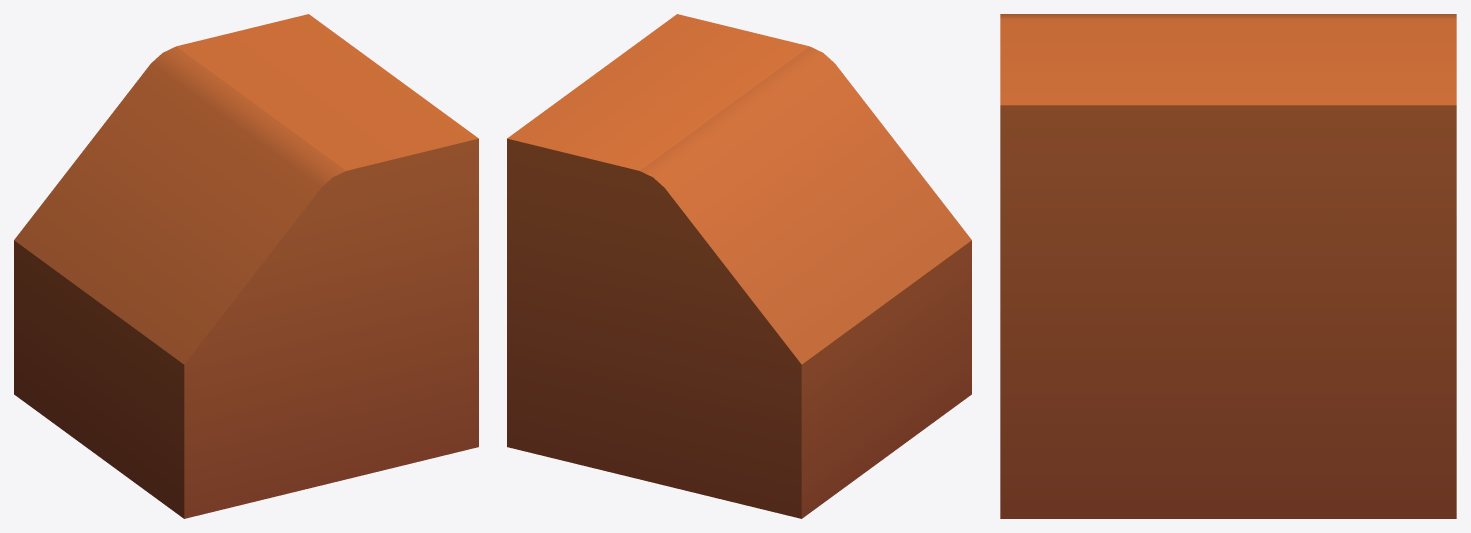
The model's file is terrain_slope.glb.
The picture shows the model from 3 angles, left to right: view 1: azimuth 30°, elevation 25°; view 2: azimuth 150°, elevation 25°; view 3: azimuth 270°, elevation 25°; orthographic projection. The views are drawn at different scales.
Visible parts, largest first — view 1: terrain_slope; view 2: terrain_slope; view 3: terrain_slope.
Part boxes in pixels (<box>): terrain_slope: <box>14,14,478,518</box>; terrain_slope: <box>507,14,971,518</box>; terrain_slope: <box>1000,14,1456,518</box>.
Size of the model in its own units: 6 by 6 by 6.
1 material, 1 textured.
